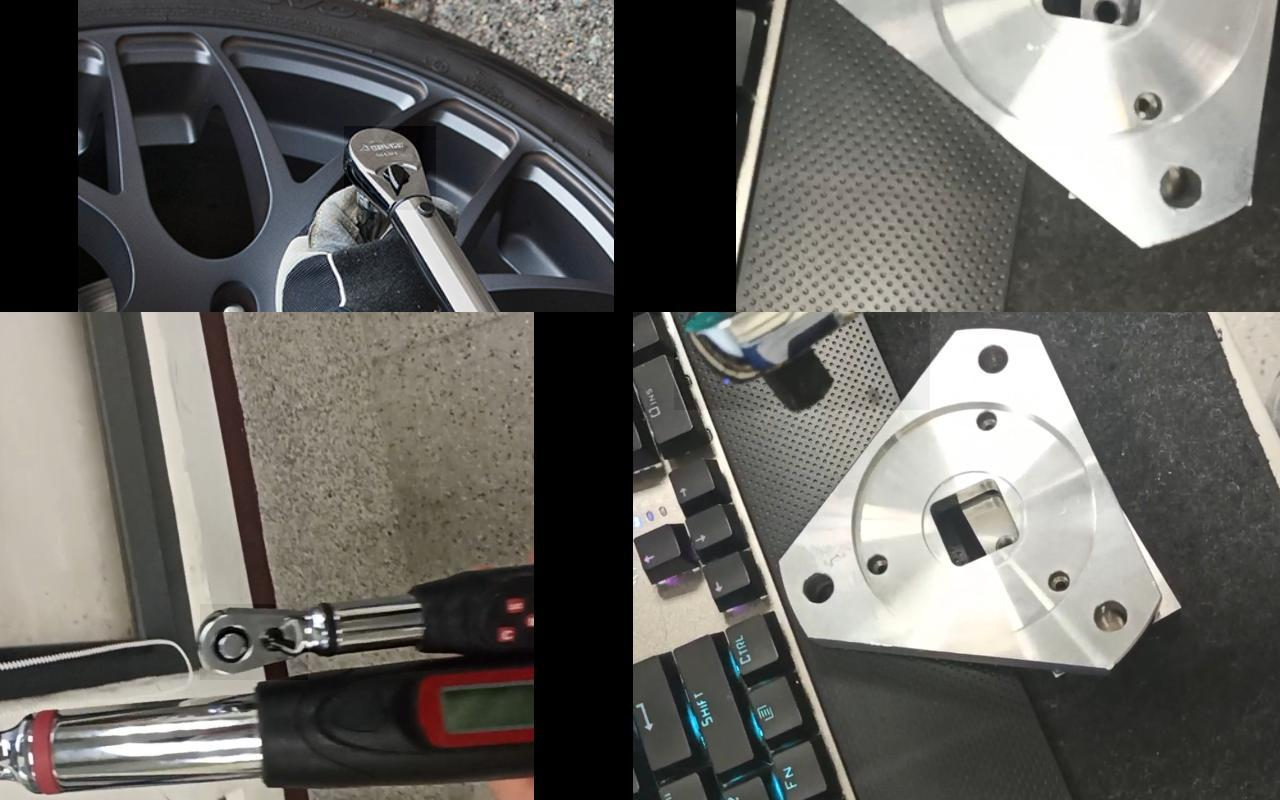Tool: (673, 312, 929, 410), (199, 604, 307, 680), (343, 126, 435, 210)
hole: (1149, 160, 1229, 211), (1084, 596, 1145, 642), (962, 343, 1020, 387), (794, 570, 852, 612), (1131, 83, 1184, 121), (859, 546, 896, 582), (970, 410, 1009, 440), (1041, 569, 1076, 595)
